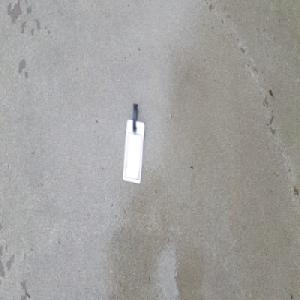LuggageTag: (122, 104, 145, 186)
